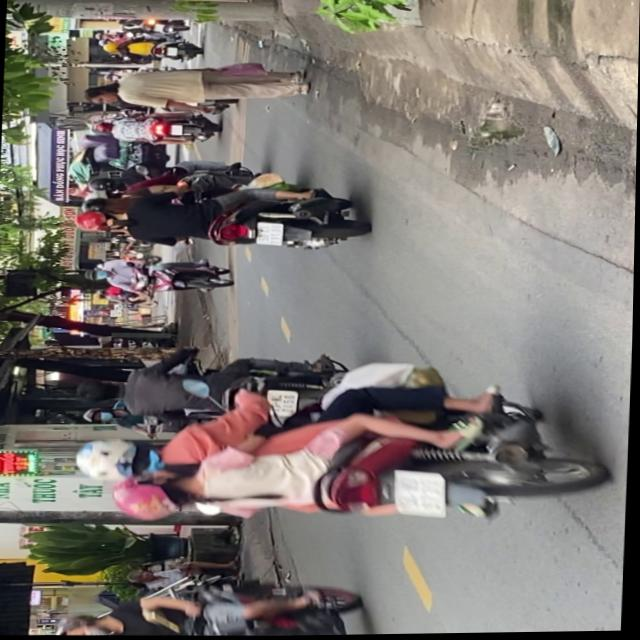helmet: (73, 436, 163, 487), (111, 477, 197, 522), (72, 209, 124, 235), (57, 614, 115, 636), (82, 409, 116, 426)
licenseplate: (68, 355, 604, 536), (69, 174, 369, 259), (73, 348, 369, 433), (54, 567, 390, 639)
motorcyclist: (76, 379, 123, 407)
nohelmet: (393, 473, 445, 520), (255, 224, 282, 246)
